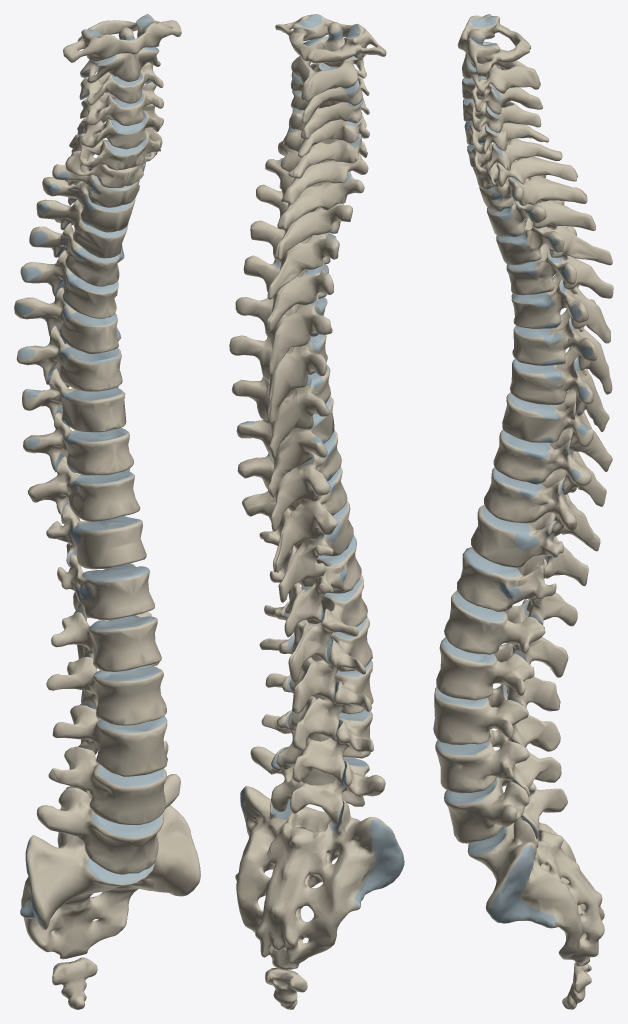
Rendered from bones-spine.glb.
3 renders of one model, left to right at view 1: azimuth 30°, elevation 25°; view 2: azimuth 150°, elevation 25°; view 3: azimuth 270°, elevation 25°, orthographic. The views are drawn at different scales.
Parts seen in each view (by area): view 1: bone-sacrum, bone-vertebra-l5, bone-vertebra-l2, bone-vertebra-l4, bone-vertebra-l3, bone-vertebra-l1, bone-vertebra-t12, bone-vertebra-t10, bone-vertebra-t11, bone-vertebra-t9, bone-vertebra-t7, bone-vertebra-t8 (+14 smaller); view 2: bone-sacrum, bone-vertebra-l5, bone-vertebra-l4, bone-vertebra-l2, bone-vertebra-l1, bone-vertebra-l3, bone-vertebra-t10, bone-vertebra-t6, bone-vertebra-t9, bone-vertebra-t7, bone-vertebra-t12, bone-vertebra-t8 (+14 smaller); view 3: bone-sacrum, bone-vertebra-l2, bone-vertebra-l1, bone-vertebra-l3, bone-vertebra-t12, bone-vertebra-l4, bone-vertebra-l5, bone-vertebra-t11, bone-vertebra-t10, bone-vertebra-t9, bone-vertebra-t8, bone-vertebra-t7 (+14 smaller).
Part boxes in pixels (box(x1,y1,x2,y2)): bone-sacrum: box(20, 805, 200, 959); bone-vertebra-l5: box(36, 774, 180, 874); bone-vertebra-l2: box(46, 656, 166, 725); bone-vertebra-l4: box(48, 741, 168, 824); bone-vertebra-l3: box(52, 705, 167, 776); bone-vertebra-l1: box(51, 612, 161, 671); bone-vertebra-t12: box(57, 554, 154, 621); bone-vertebra-t10: box(27, 456, 140, 523); bone-vertebra-t11: box(46, 504, 146, 569); bone-vertebra-t9: box(23, 412, 133, 475); bone-vertebra-t7: box(16, 325, 122, 391); bone-vertebra-t8: box(22, 368, 126, 432); bone-sacrum: box(235, 786, 404, 969); bone-vertebra-l5: box(250, 746, 385, 825); bone-vertebra-l4: box(261, 709, 373, 783); bone-vertebra-l2: box(259, 616, 372, 713); bone-vertebra-l1: box(264, 574, 367, 682); bone-vertebra-l3: box(265, 660, 373, 750); bone-vertebra-t10: box(242, 466, 347, 572); bone-vertebra-t6: box(229, 334, 327, 424); bone-vertebra-t9: box(237, 430, 341, 531); bone-vertebra-t7: box(231, 364, 330, 458); bone-vertebra-t12: box(269, 535, 361, 637); bone-vertebra-t8: box(236, 396, 334, 499); bone-sacrum: box(467, 782, 604, 966); bone-vertebra-l2: box(436, 637, 560, 711); bone-vertebra-l1: box(444, 590, 568, 677); bone-vertebra-l3: box(433, 684, 560, 751); bone-vertebra-t12: box(457, 547, 577, 626); bone-vertebra-l4: box(435, 729, 561, 796); bone-vertebra-l5: box(444, 777, 567, 843); bone-vertebra-t11: box(471, 505, 588, 586); bone-vertebra-t10: box(484, 467, 600, 551); bone-vertebra-t9: box(493, 428, 606, 506); bone-vertebra-t8: box(502, 389, 612, 471); bone-vertebra-t7: box(510, 347, 609, 431).
Size of the model in its own units: 0.1229 by 0.7225 by 0.1202.
